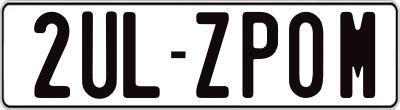0: (286, 11, 325, 103)
2: (33, 12, 73, 99)
L: (123, 9, 165, 99)
M: (340, 12, 376, 99)
P: (240, 12, 276, 101)
U: (82, 10, 119, 100)
Z: (196, 9, 230, 96)
